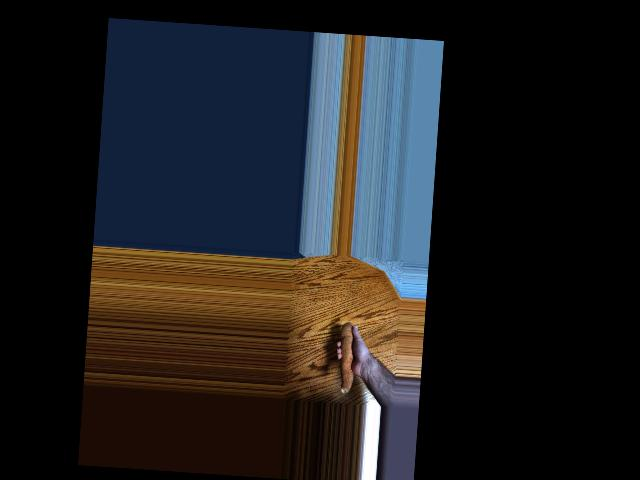sweet_potato: (333, 316, 362, 395)
